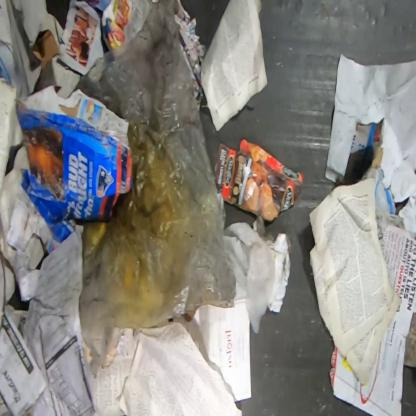cardboard: (5, 84, 134, 256), (213, 138, 306, 223), (0, 0, 61, 99), (340, 118, 396, 216)
soft_plastic: (73, 0, 238, 368)
